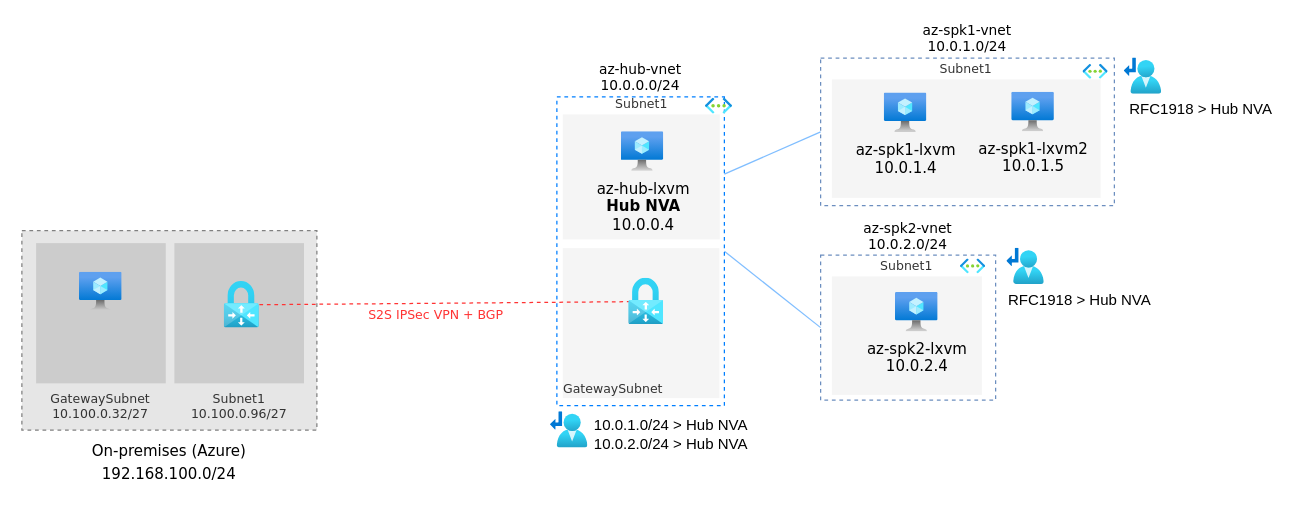
Image size: 1305x505. Some labels were removed from this diagram. The shapes that lost their labels are listed below. From the top down, each one's centre as x and y in pixels, then its label:
pixel 100 291: onprem-lxvm 192.168.100.4
pixel 241 304: onprem-vpngw
pixel 645 301: az-hub-vpngw
